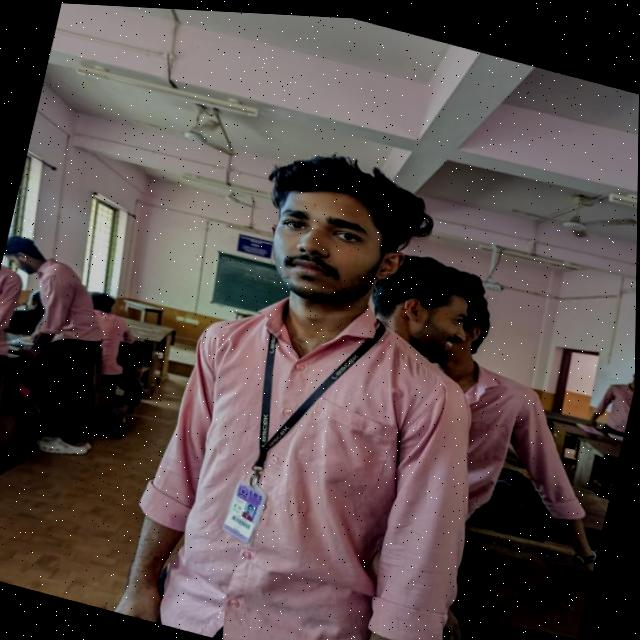id_card: (202, 296, 377, 564)
